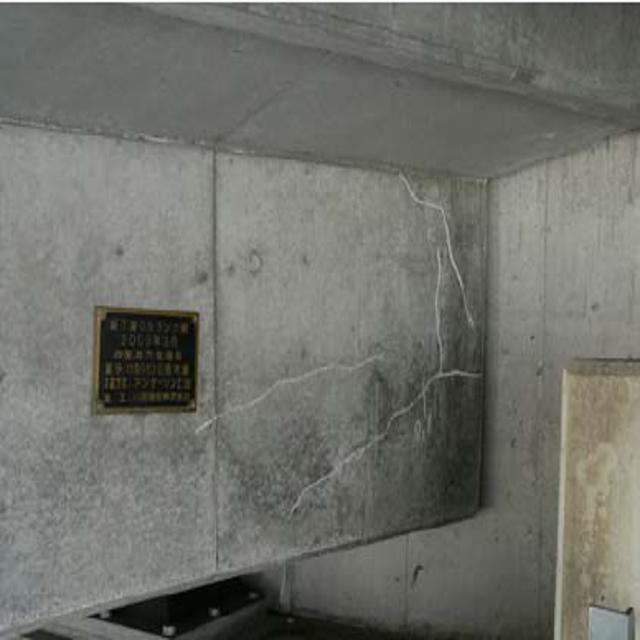crack: (206, 353, 400, 513), (406, 172, 490, 438)
